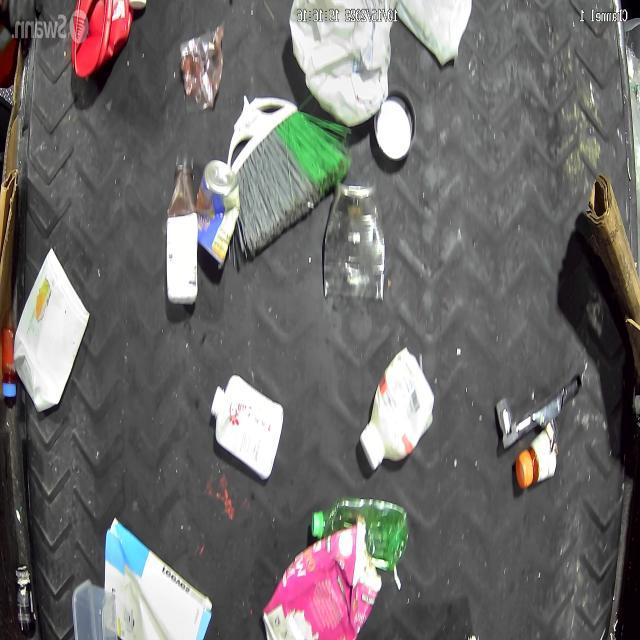can: (322, 176, 387, 306), (194, 158, 242, 272), (372, 88, 416, 162)
milk_jug: (289, 0, 397, 129), (393, 1, 473, 66)
non_white_jug: (260, 520, 382, 640), (70, 0, 134, 78)
